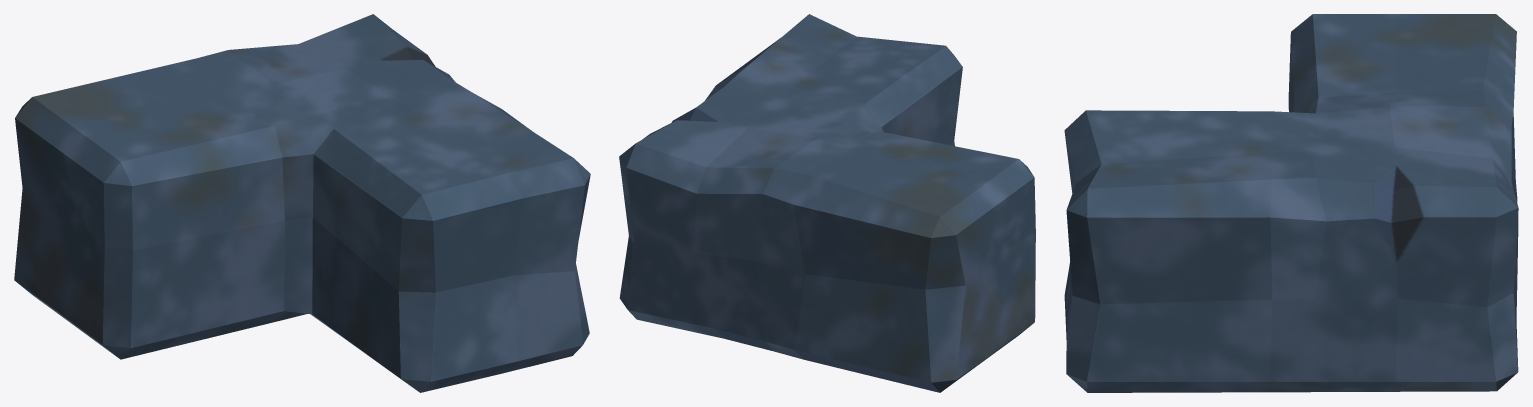
The model's file is Tetris_3.fbx.
3 views of the same model, side by side, from view 1: azimuth 30°, elevation 25°; view 2: azimuth 150°, elevation 25°; view 3: azimuth 270°, elevation 25° (orthographic). The views are drawn at different scales.
Visible parts, largest first — view 1: Tetris_1.007; view 2: Tetris_1.007; view 3: Tetris_1.007.
Boxes of the visible parts, box(x1,y1,x2,y2) form: Tetris_1.007: box(14, 14, 590, 392); Tetris_1.007: box(619, 14, 1035, 392); Tetris_1.007: box(1064, 14, 1518, 392).
Size of the model in its own units: 402 by 206 by 402.
